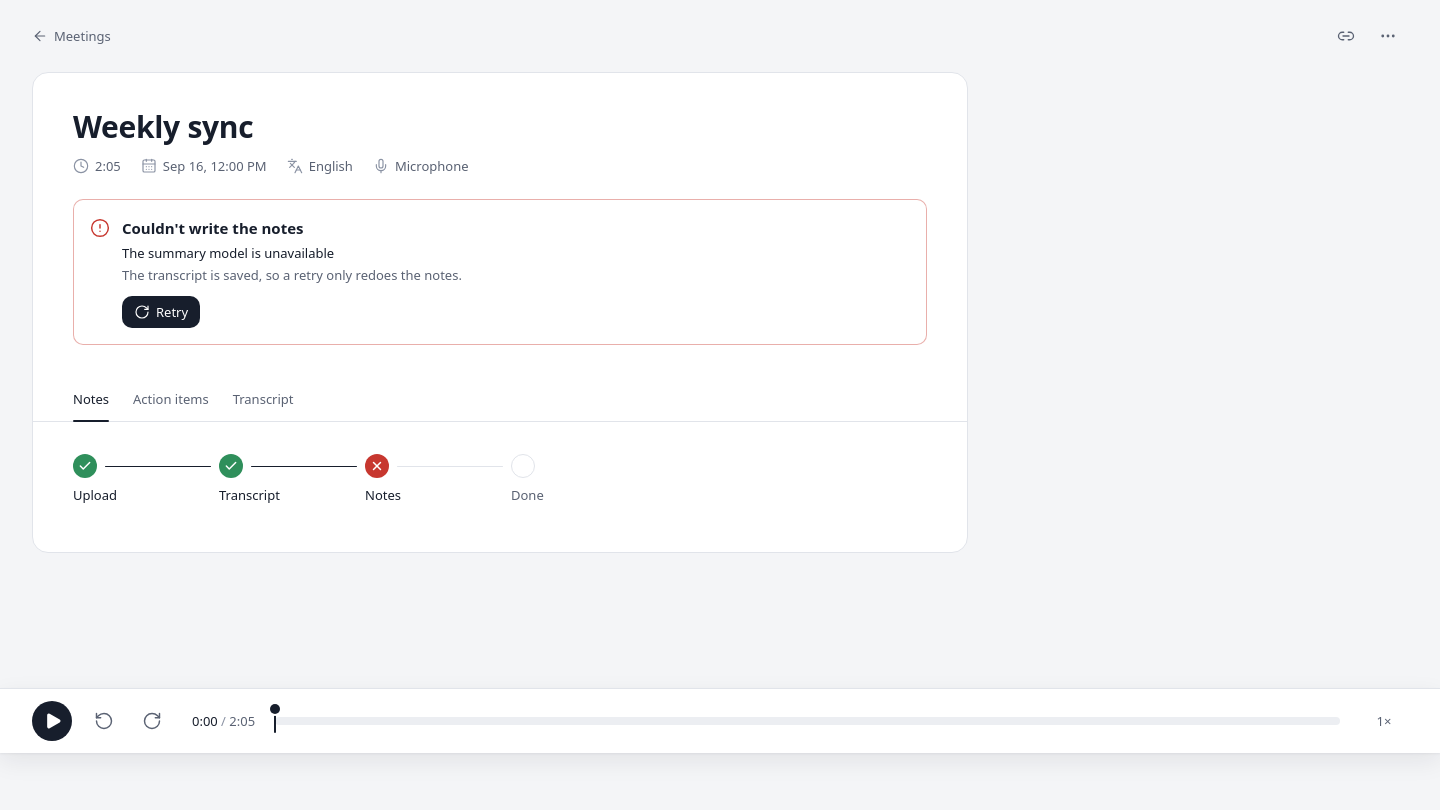
Test: MeetingPage › retry › shows why a retry was refused
The image size is (1440, 810).
Click the button "Retry". click: (161,312)
box: [122,296,200,328]
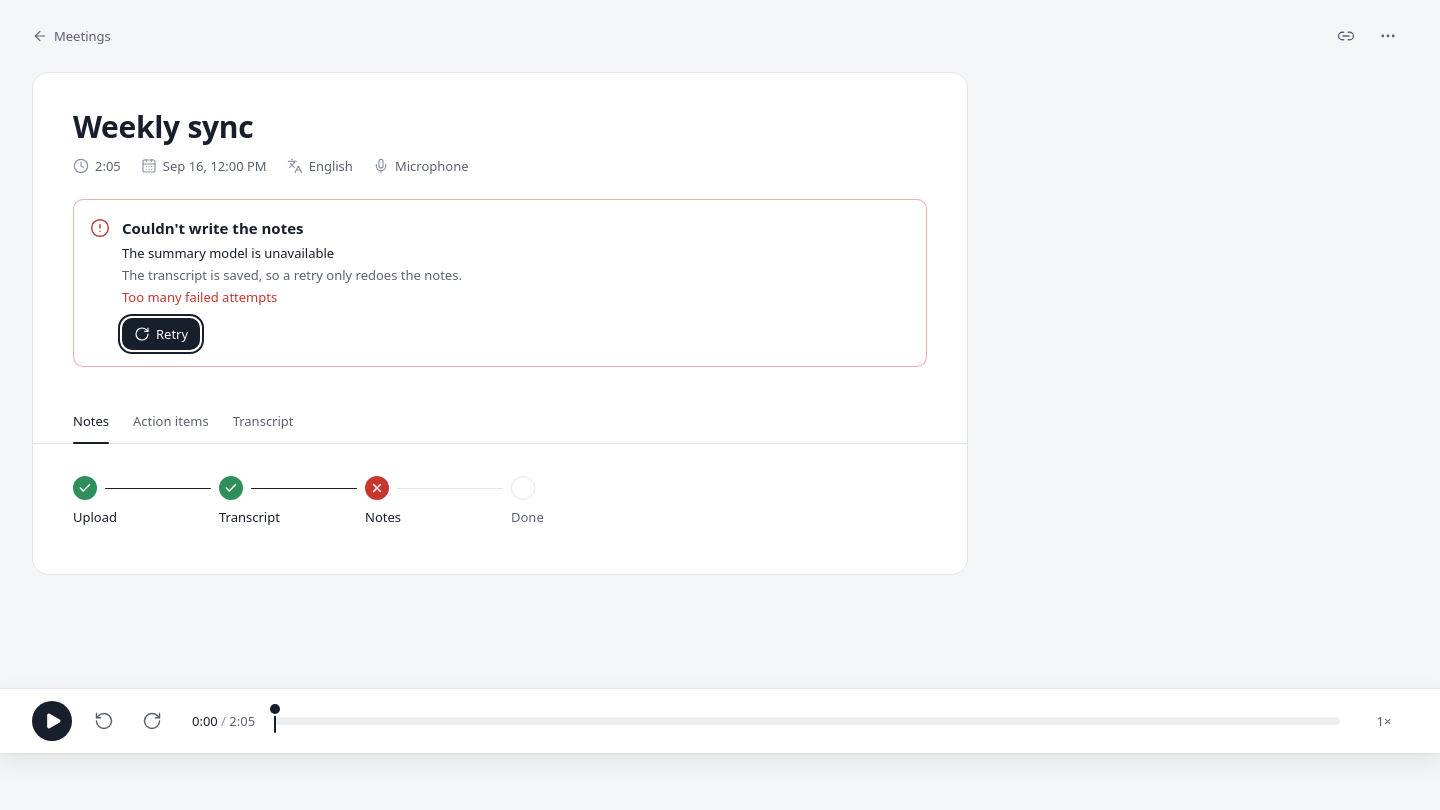
expect the message reads "Too many failed attempts": met, box [122,288,277,306]
